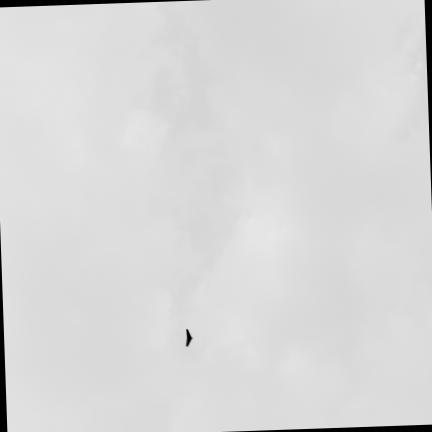Shahed: (186, 329, 192, 346)
